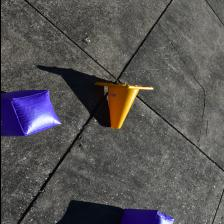cone: (93, 82, 153, 128)
cube: (0, 90, 60, 136), (118, 208, 174, 224)
